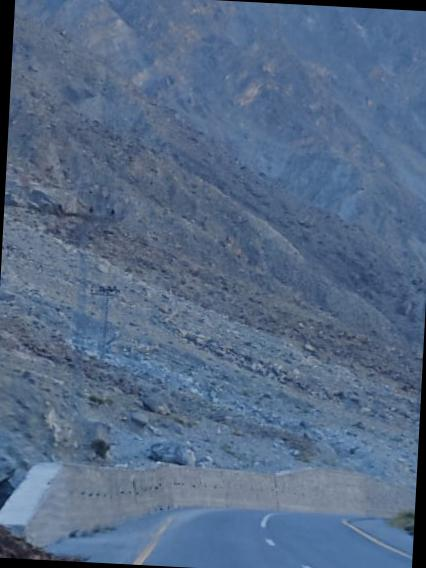right_turn: (152, 458, 416, 568)
